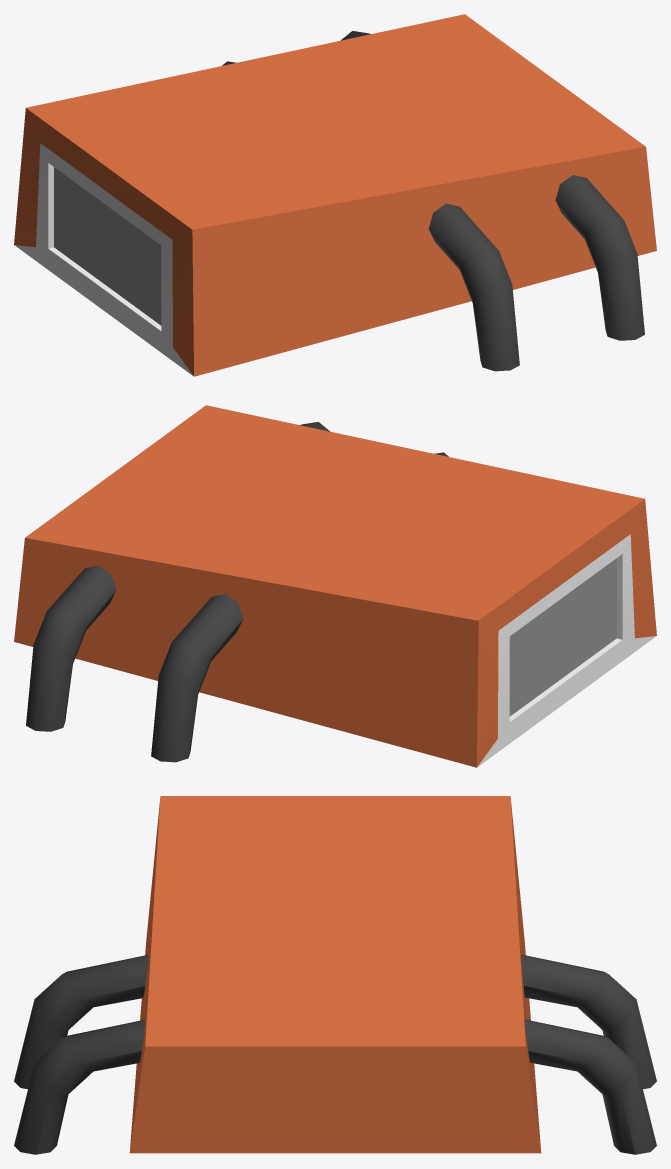
File: Machine_8.fbx
The picture shows the model from 3 angles, top to bottom: view 1: azimuth 30°, elevation 25°; view 2: azimuth 150°, elevation 25°; view 3: azimuth 270°, elevation 25°; orthographic projection. The views are drawn at different scales.
Parts seen in each view (by area): view 1: Machine_8; view 2: Machine_8; view 3: Machine_8.
Part boxes in pixels (left/top/right/bottom): Machine_8: left=14, top=14, right=656, bottom=376; Machine_8: left=14, top=405, right=656, bottom=767; Machine_8: left=14, top=796, right=656, bottom=1154.
Size of the model in its own units: 956 by 302 by 1113.
